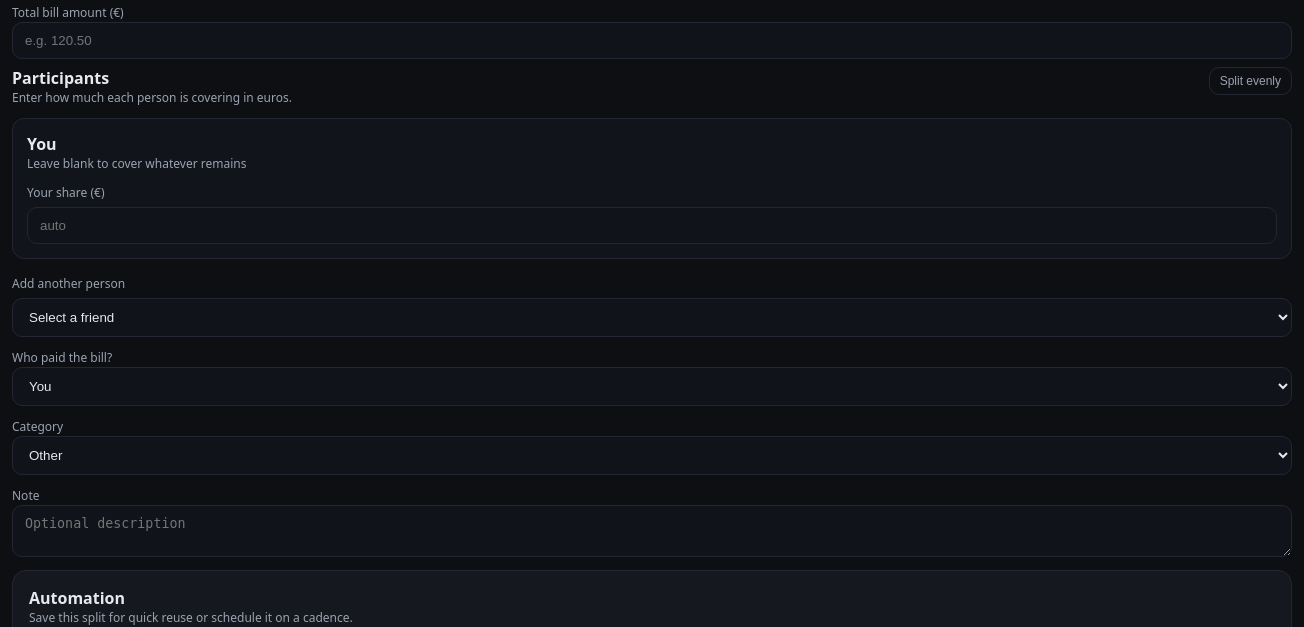
Test: SplitForm › Removing participants › can remove a friend participant
Select "Alice" in the dropdown labelled "Add another person". click: (652, 318)
box: [12, 298, 1292, 337]
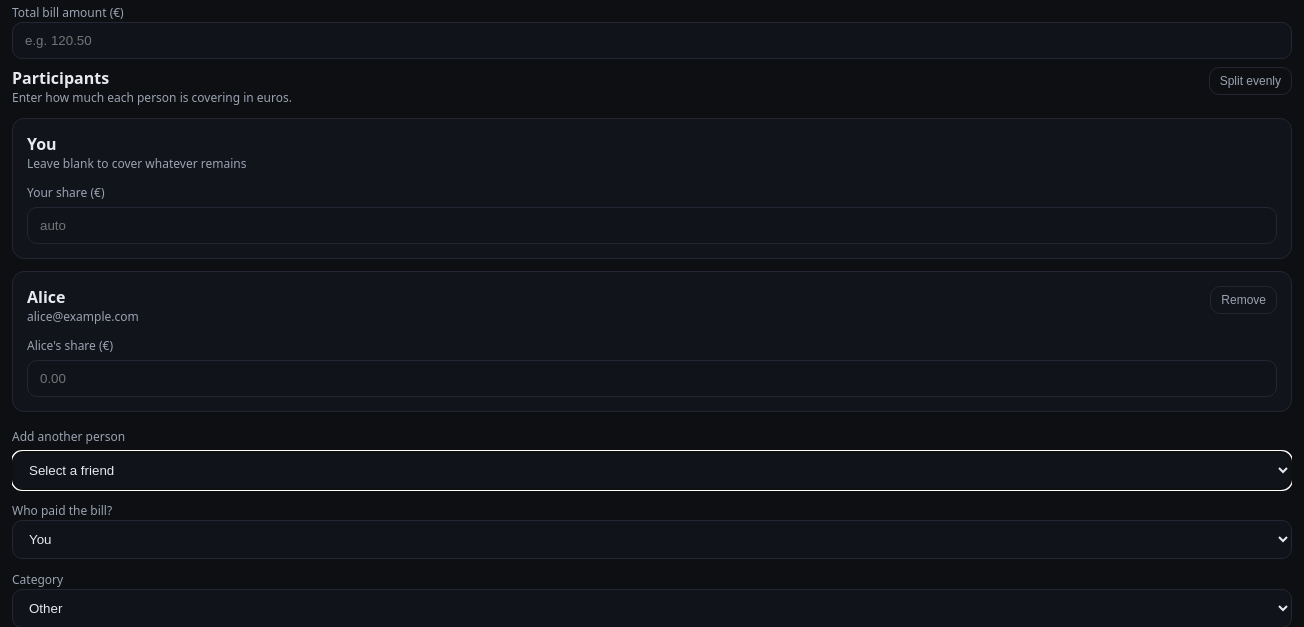
Expected: the text "Alice's share (€)" is shown, [27, 337, 113, 354]
Note: Remove Alice
Click the button "Remove". click: (1244, 300)
box: [1210, 286, 1277, 314]
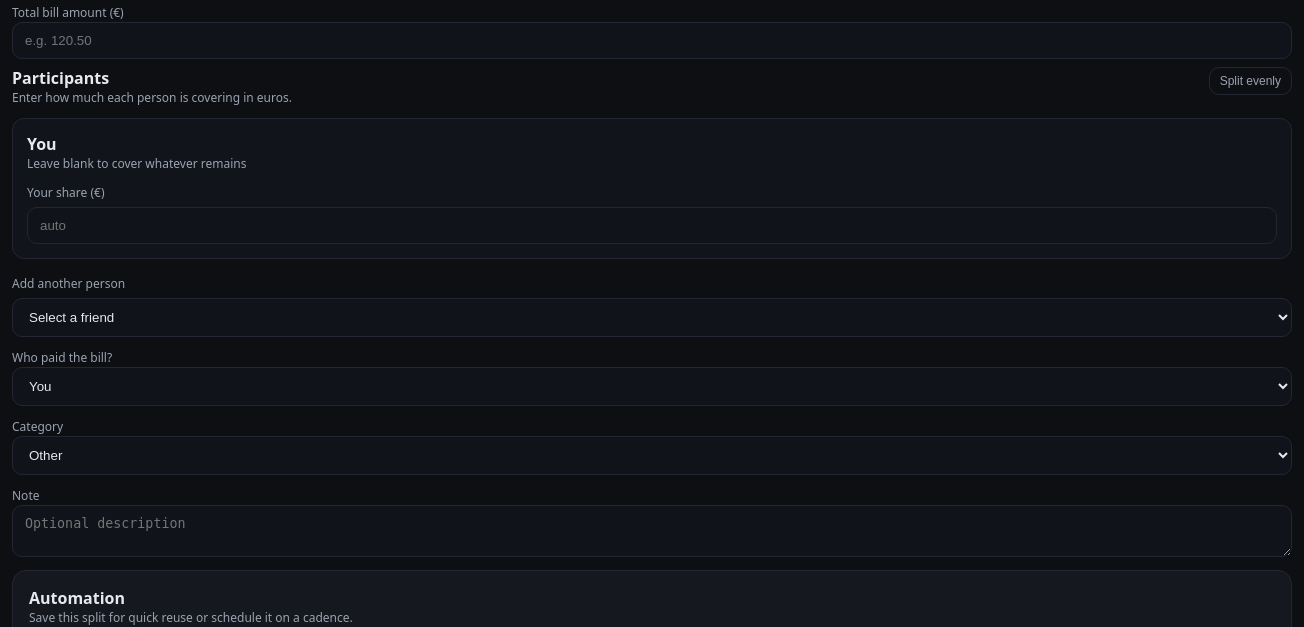
Expected: the text "Alice's share" is gone
